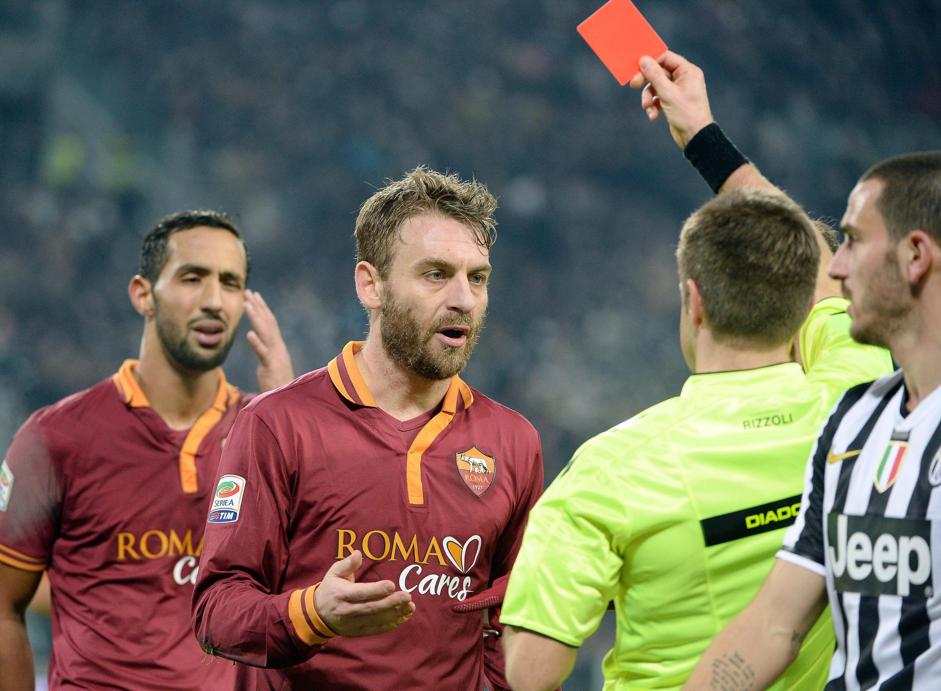red_card: (549, 1, 715, 135)
